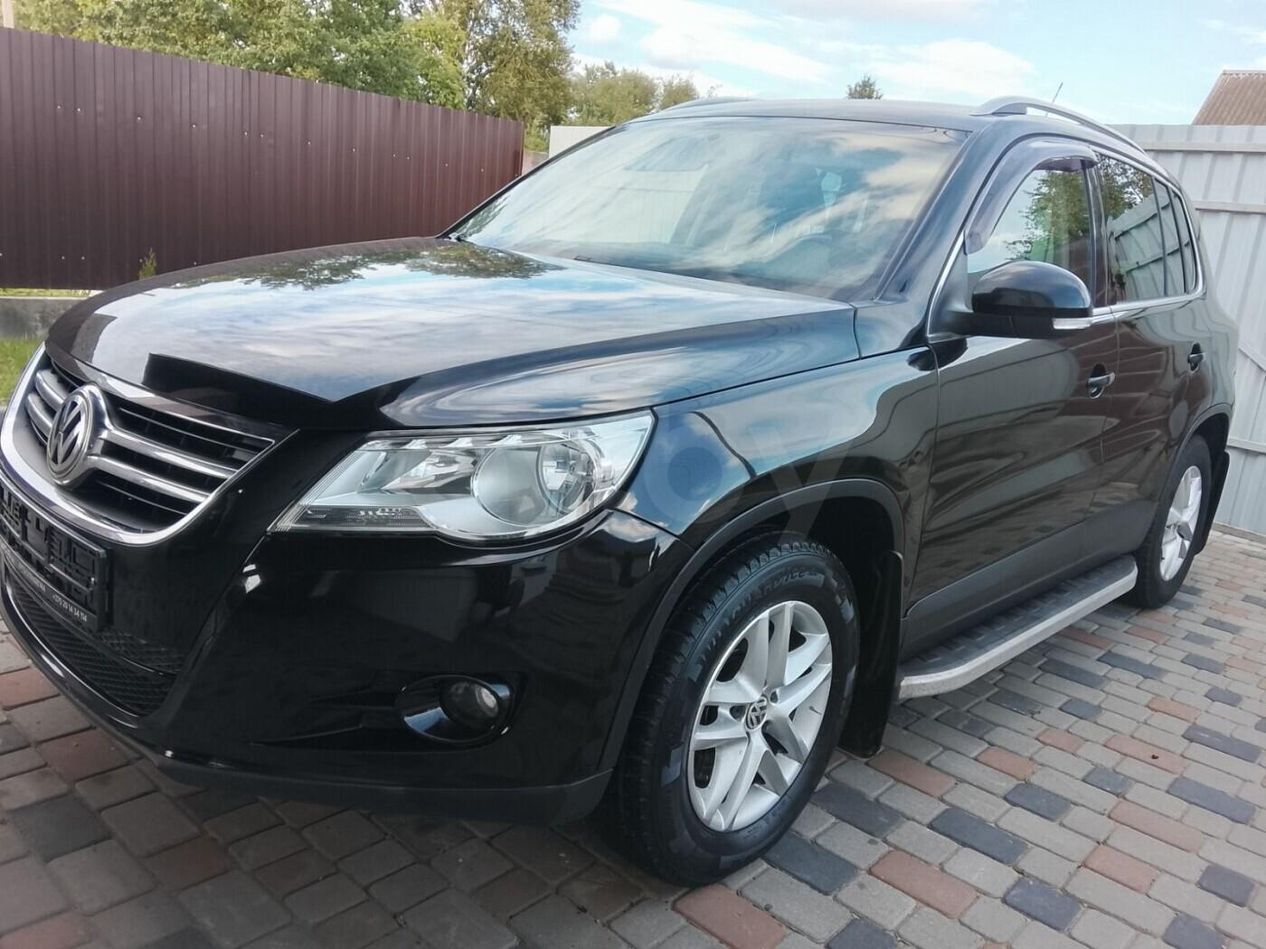Tiguan_2007-2011: (1, 87, 1238, 869)
